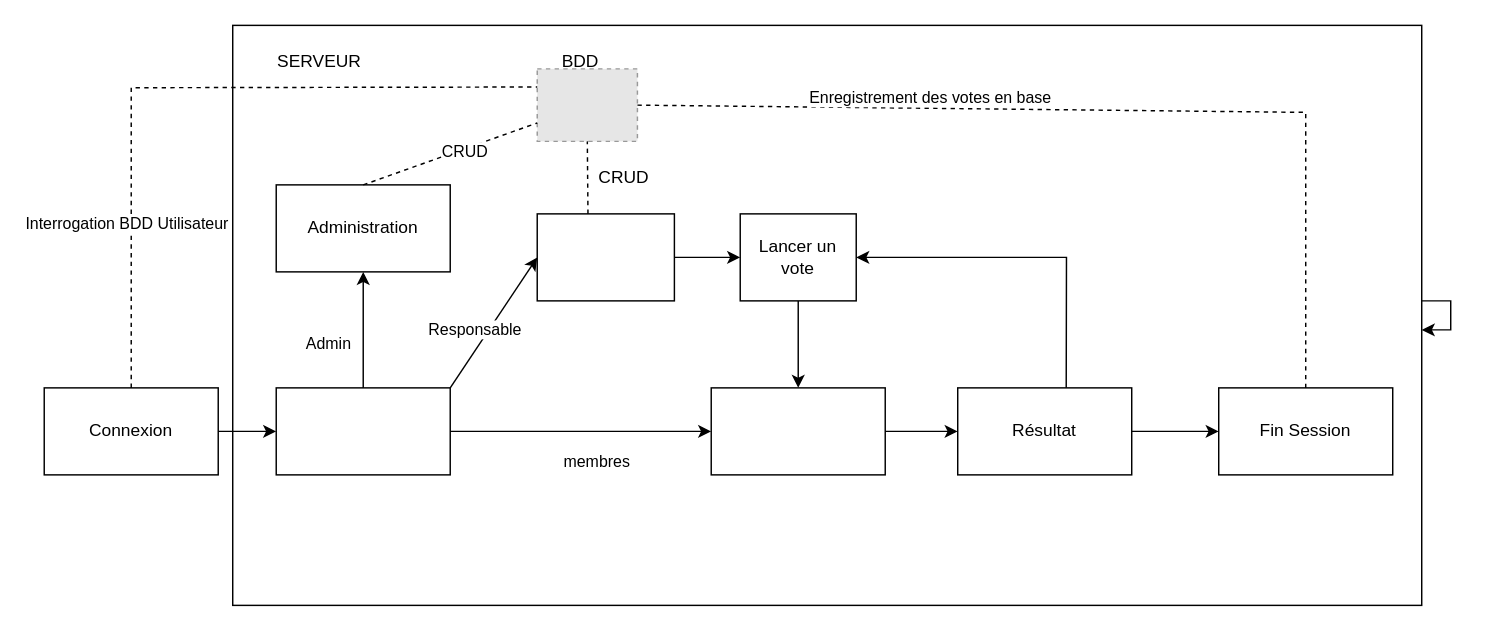
This 1488x631 diagram has some shape labels left out. Grey dashed boxes stand in for pictures. The shapes that lost their labels are listed below. From the top down, each one's centre as x and y in pixels, then its label:
pixel 605 256: Créer une session
pixel 362 430: Page d'accueil
pixel 797 430: Voter
